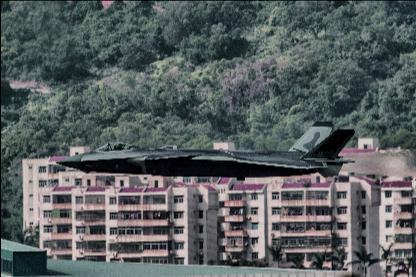F4: (53, 120, 355, 180)
